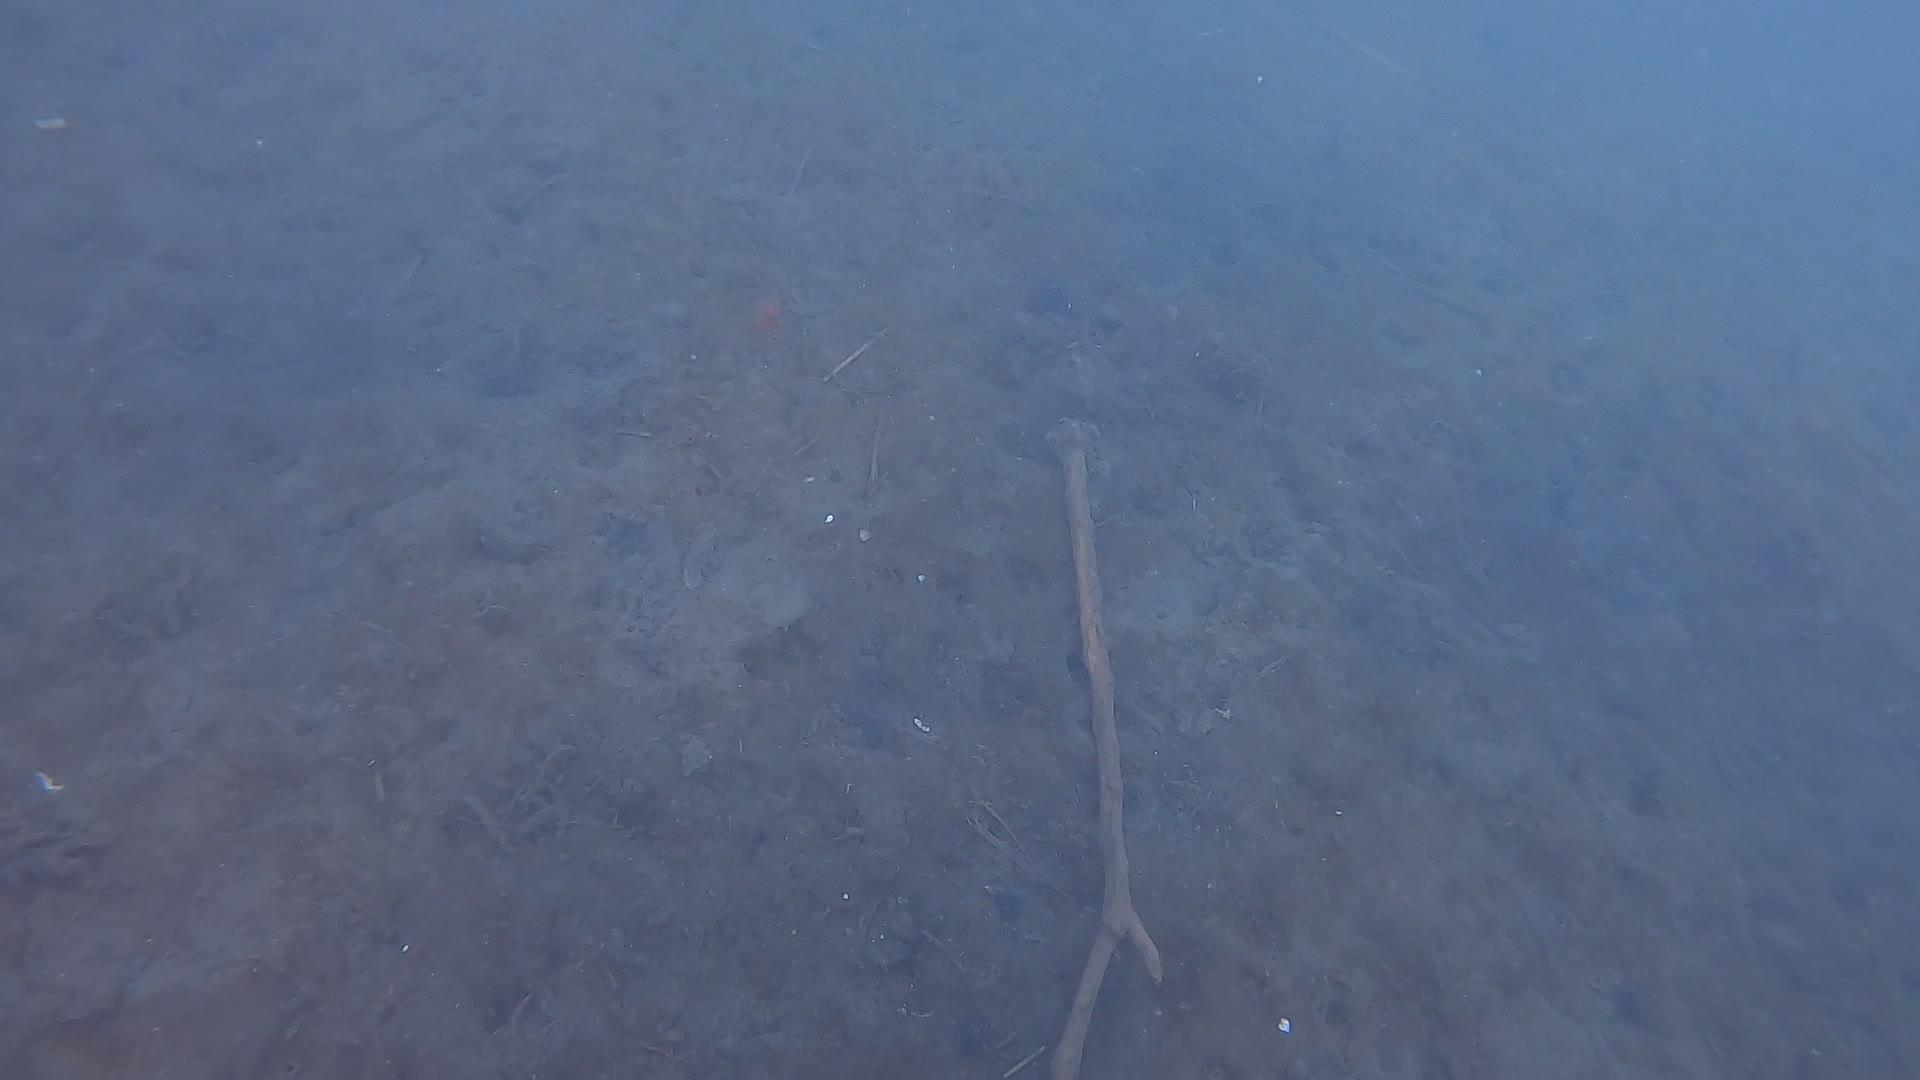wood: (1048, 426, 1163, 1080)
